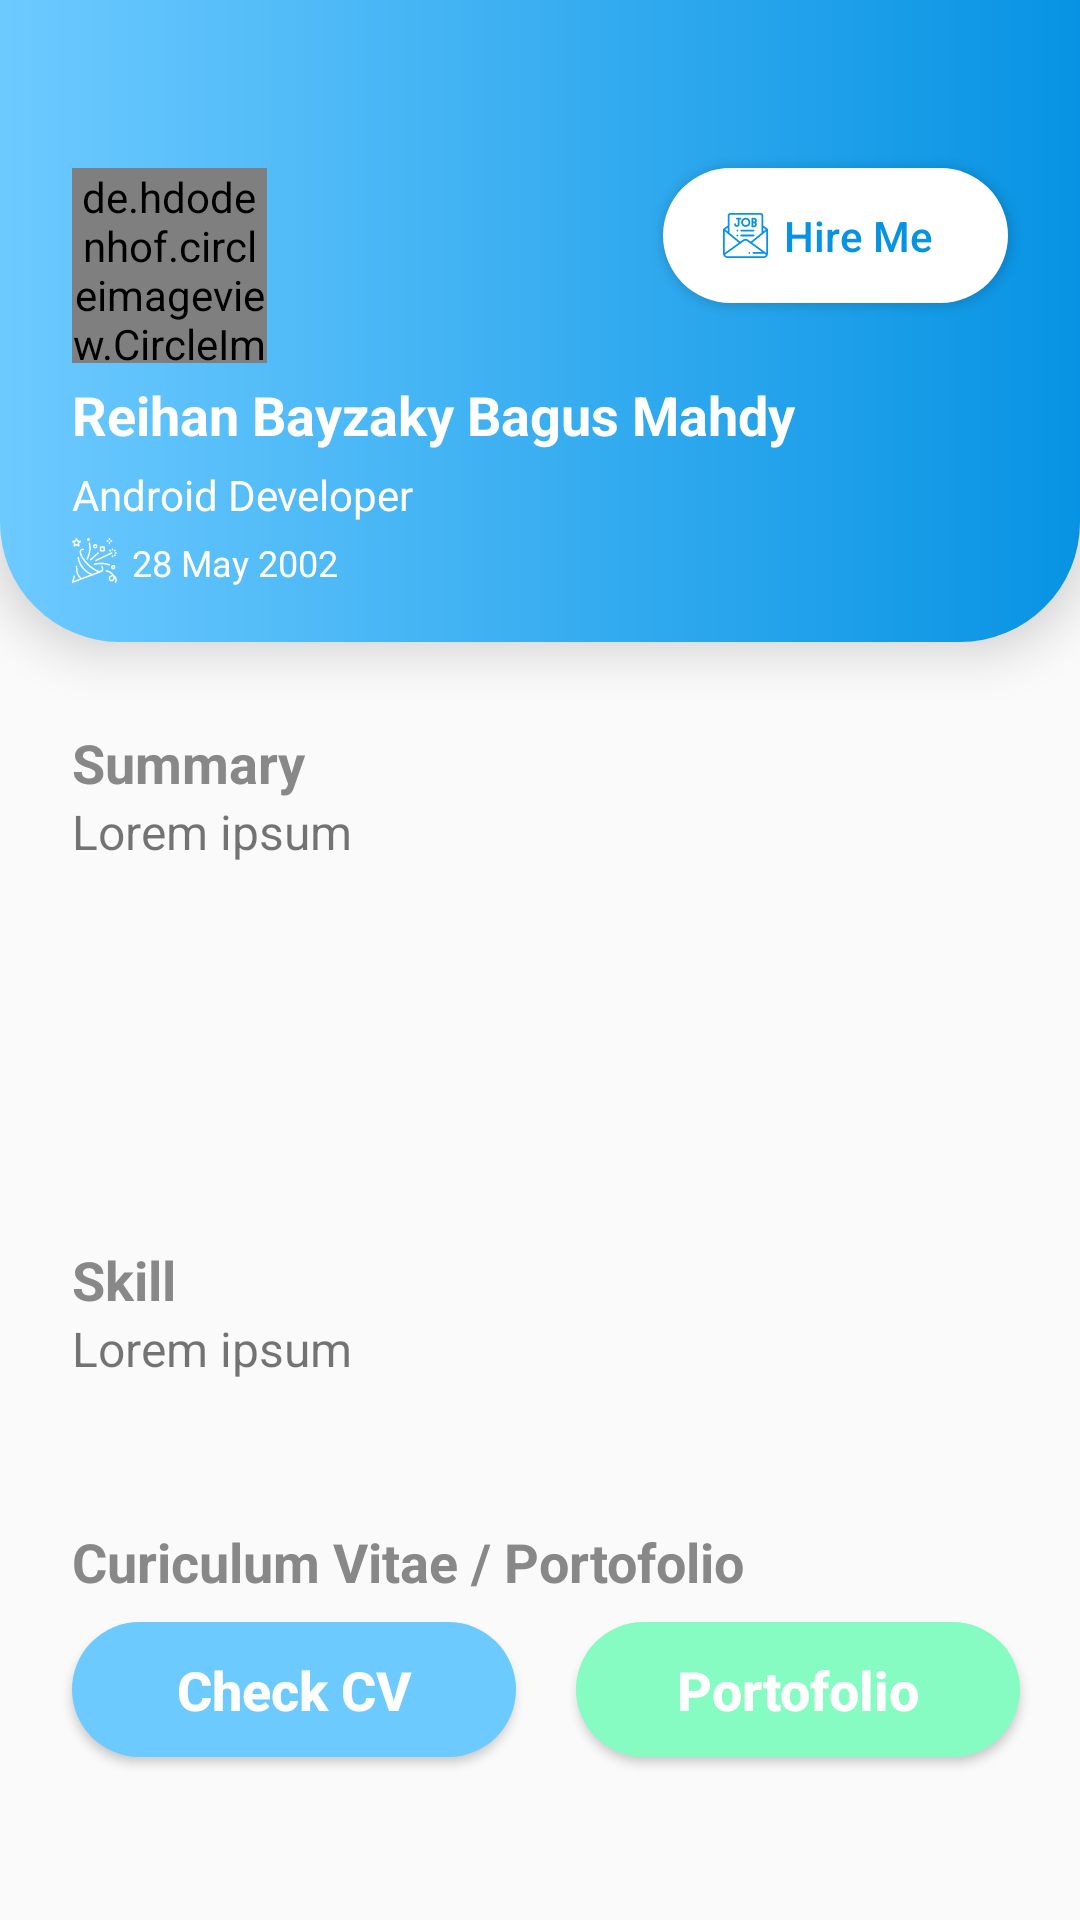

Named icons in this screenshot (1080px x 1920px) and their centers, (x=x, y=y):
party: (x=94, y=560)
